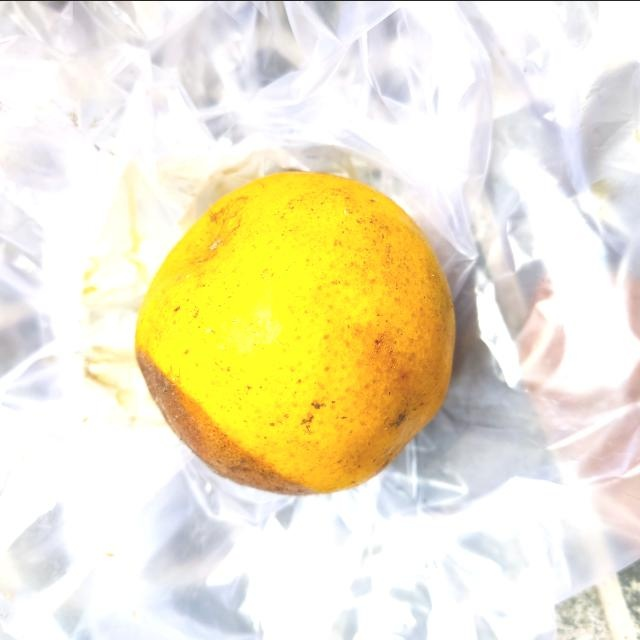agrume: (133, 163, 458, 494)
